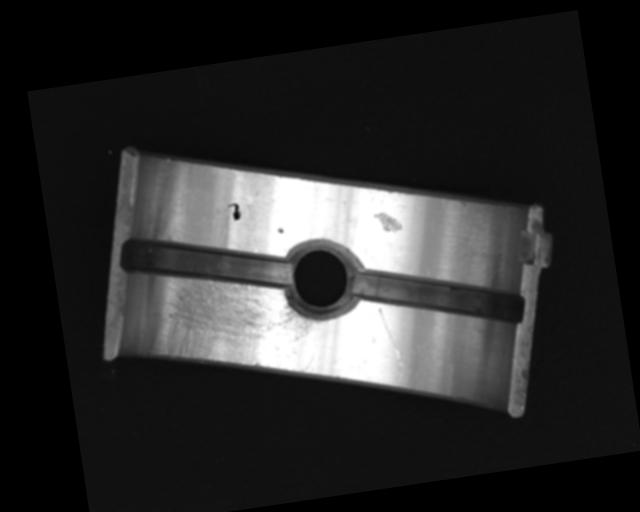blot: (225, 201, 243, 222)
bruise: (373, 209, 404, 237), (276, 226, 284, 233)
gap: (350, 246, 524, 345), (117, 215, 295, 307)
hole: (278, 234, 367, 322)
nick: (378, 305, 402, 368)
scratch: (138, 251, 320, 395)
